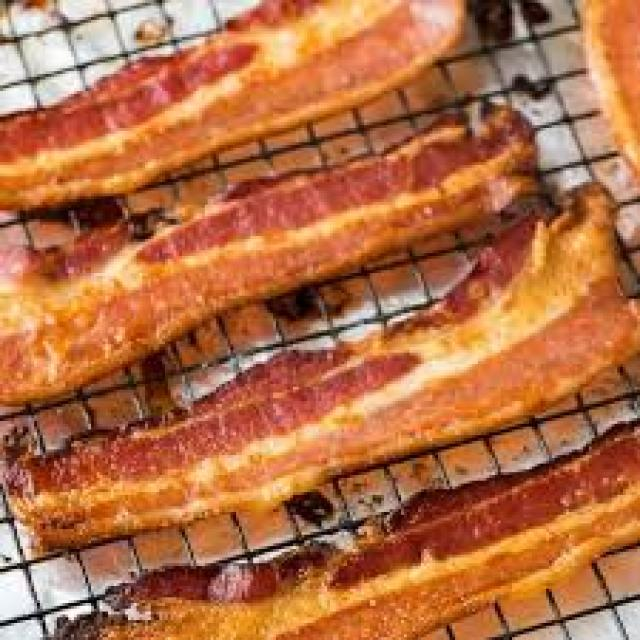Bacon: (6, 185, 640, 549), (0, 108, 536, 403), (55, 423, 640, 639), (0, 0, 465, 209)
